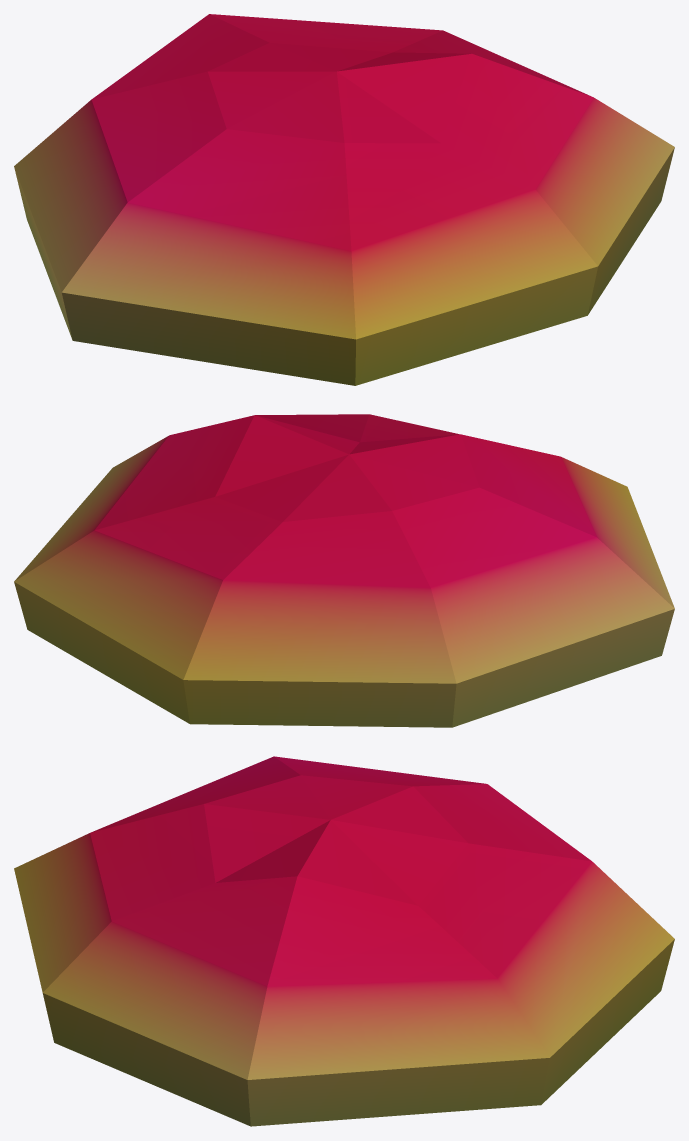
File: Stone_Single_04.fbx
The picture shows the model from 3 angles, top to bottom: view 1: azimuth 30°, elevation 25°; view 2: azimuth 150°, elevation 25°; view 3: azimuth 270°, elevation 25°; orthographic projection. The views are drawn at different scales.
Parts seen in each view (by area): view 1: Stone_Single_04; view 2: Stone_Single_04; view 3: Stone_Single_04.
Boxes of the visible parts, left/top/right/bottom form: Stone_Single_04: left=14, top=14, right=674, bottom=385; Stone_Single_04: left=14, top=414, right=674, bottom=727; Stone_Single_04: left=14, top=756, right=674, bottom=1126.
Size of the model in its own units: 0.8679 by 0.2326 by 0.8207.
